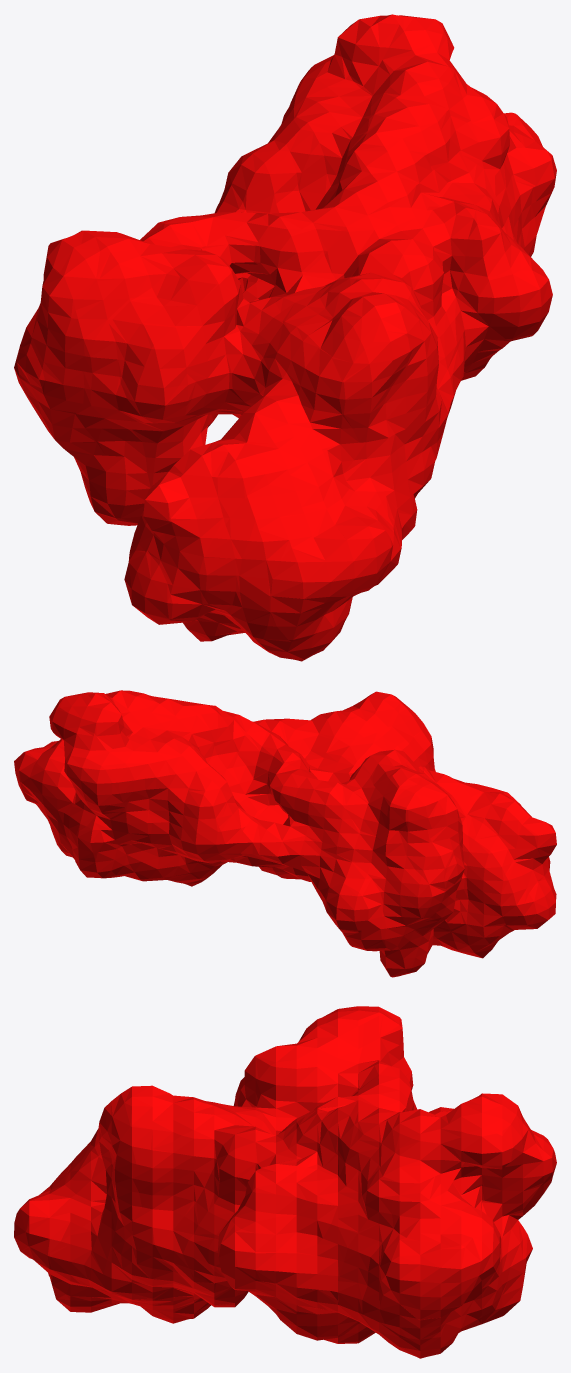
The model's file is mgtA_coarse.dae.
3 renders of one model, top to bottom at view 1: azimuth 30°, elevation 25°; view 2: azimuth 150°, elevation 25°; view 3: azimuth 270°, elevation 25°, orthographic. The views are drawn at different scales.
Parts seen in each view (by area): view 1: mgtA; view 2: mgtA; view 3: mgtA.
Boxes of the visible parts, x1,y1,x2,y2 form: mgtA: [14, 14, 556, 661]; mgtA: [14, 690, 556, 977]; mgtA: [14, 1006, 556, 1358].
Bounding box in the file's own units: 110 × 75.09 × 102.
